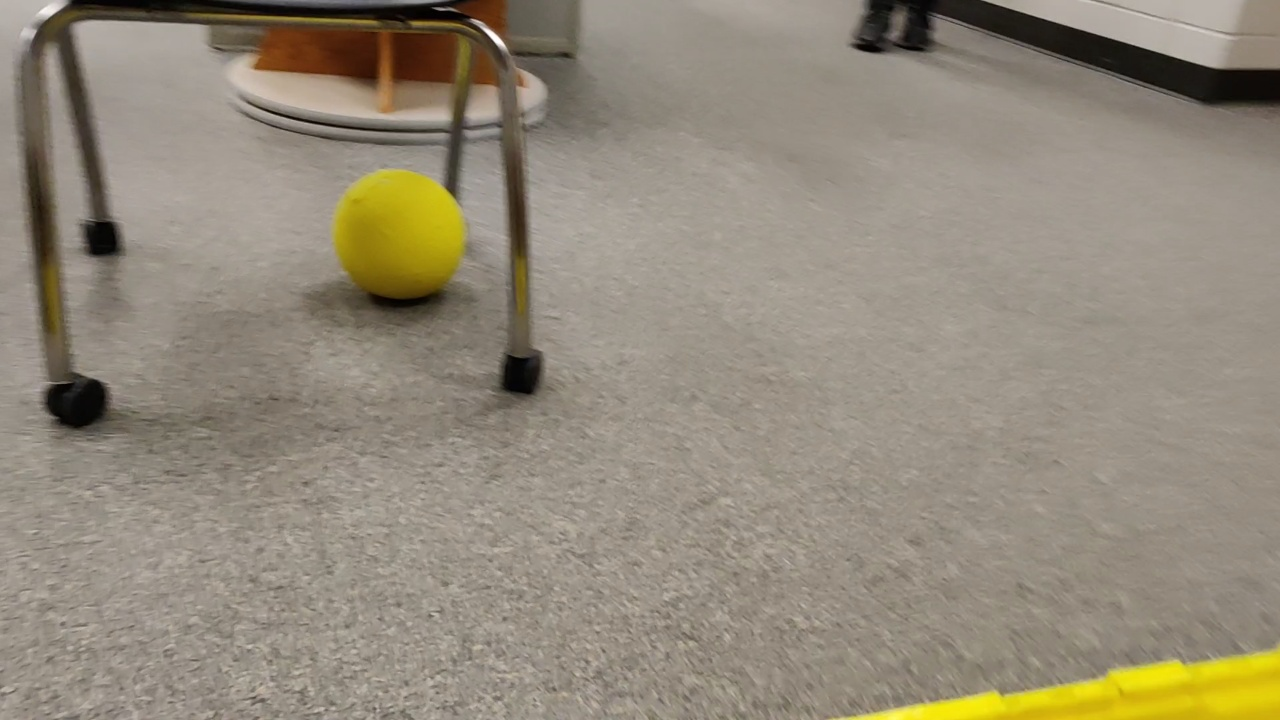Ball: (335, 169, 462, 312)
